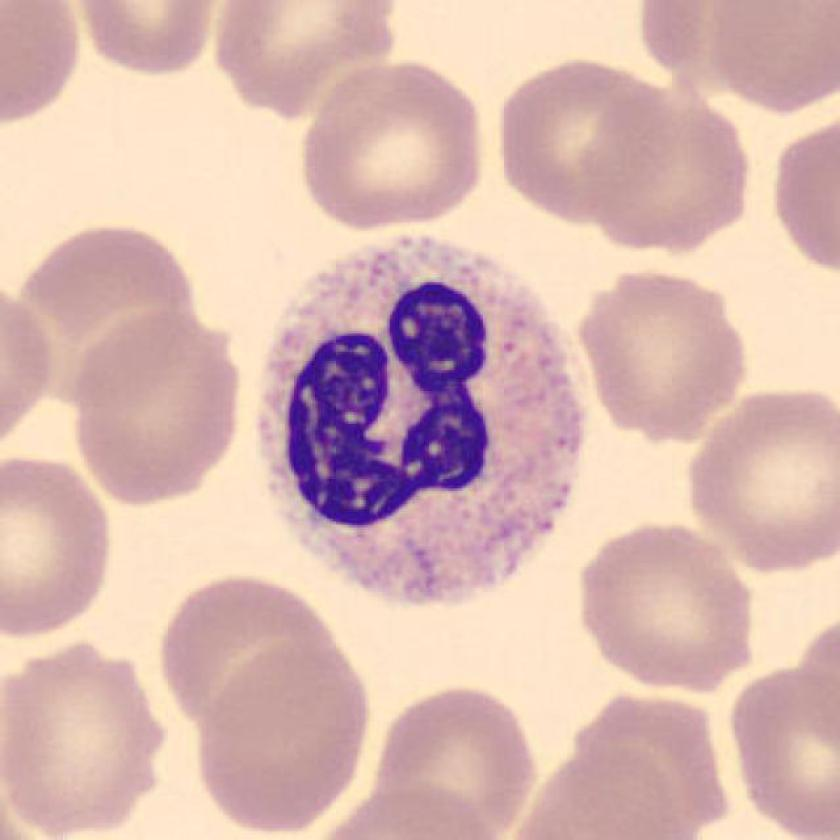neutrophil: (257, 235, 586, 601)
